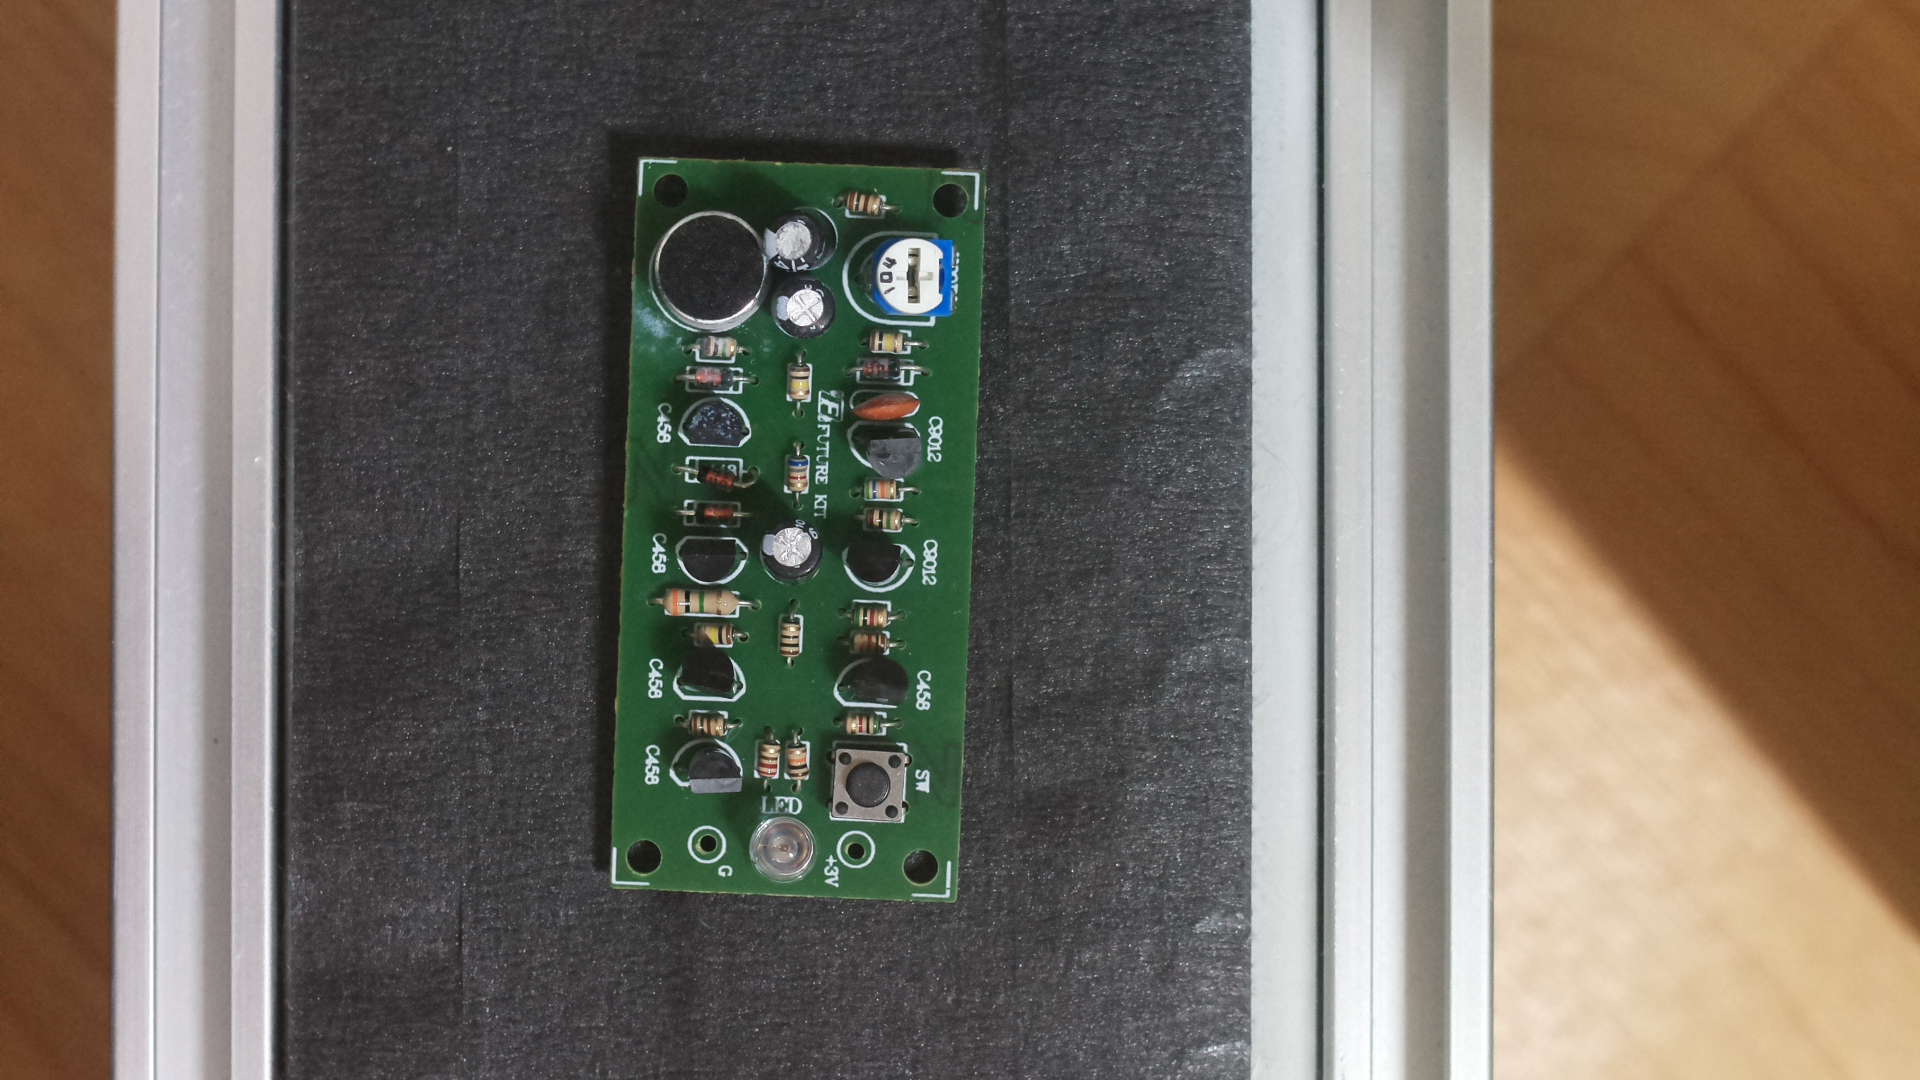A_Normal: (601, 128, 996, 920)
